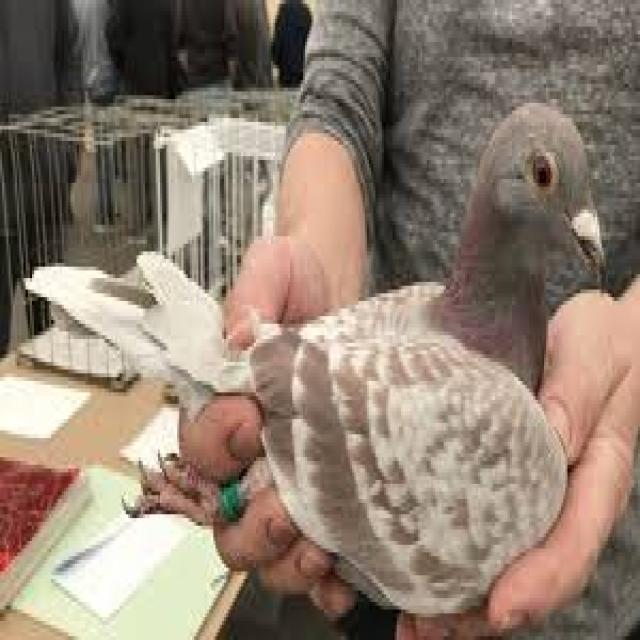pigeon: (34, 81, 618, 613)
